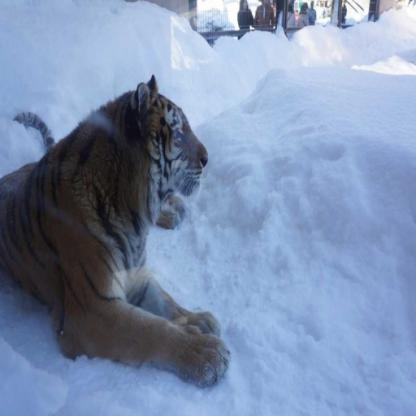Tiger: (0, 53, 261, 385)
